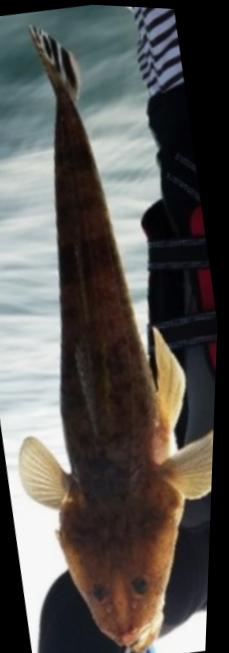fish: (20, 23, 217, 652)
